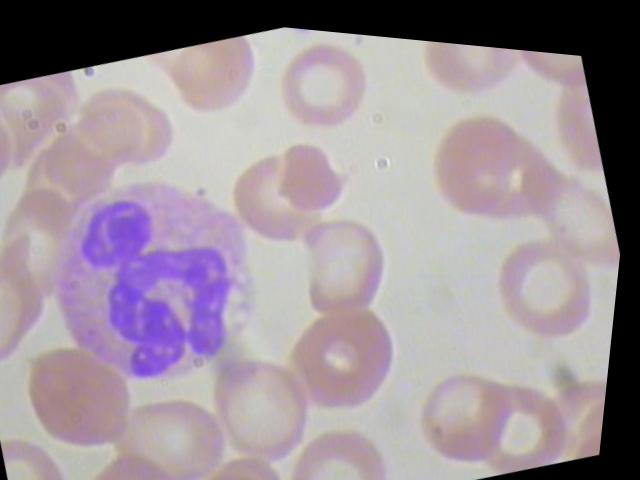Platelets: (0, 213, 15, 254)
Red Blood Cells: (14, 323, 166, 470), (275, 282, 427, 428), (480, 207, 621, 349), (405, 336, 546, 478), (205, 337, 339, 476), (290, 195, 420, 334), (216, 128, 346, 267), (257, 20, 395, 148), (104, 365, 258, 479), (154, 22, 281, 137), (403, 31, 540, 114), (268, 119, 364, 219), (283, 404, 411, 479), (6, 421, 102, 479), (0, 88, 37, 201)
White Blood Cells: (21, 144, 296, 417)
